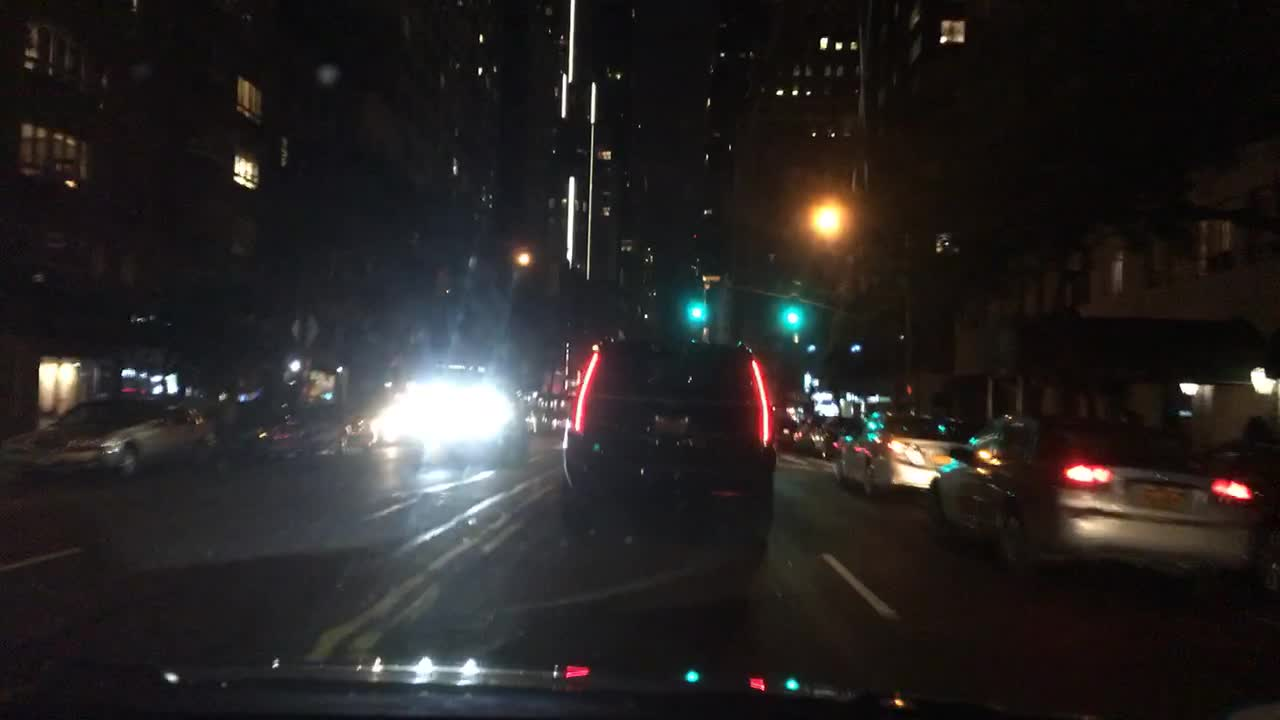car: (929, 407, 1268, 583), (561, 336, 780, 538), (2, 390, 221, 481), (830, 404, 981, 497), (405, 381, 509, 436), (228, 397, 310, 463), (301, 399, 351, 454), (768, 395, 807, 452), (821, 411, 866, 458), (522, 391, 568, 433), (809, 415, 845, 458), (342, 407, 377, 451), (373, 409, 411, 443), (794, 413, 818, 452), (513, 384, 542, 415)
traffic light: (687, 298, 707, 320), (784, 307, 800, 325)
traffic sign: (290, 315, 319, 339)
